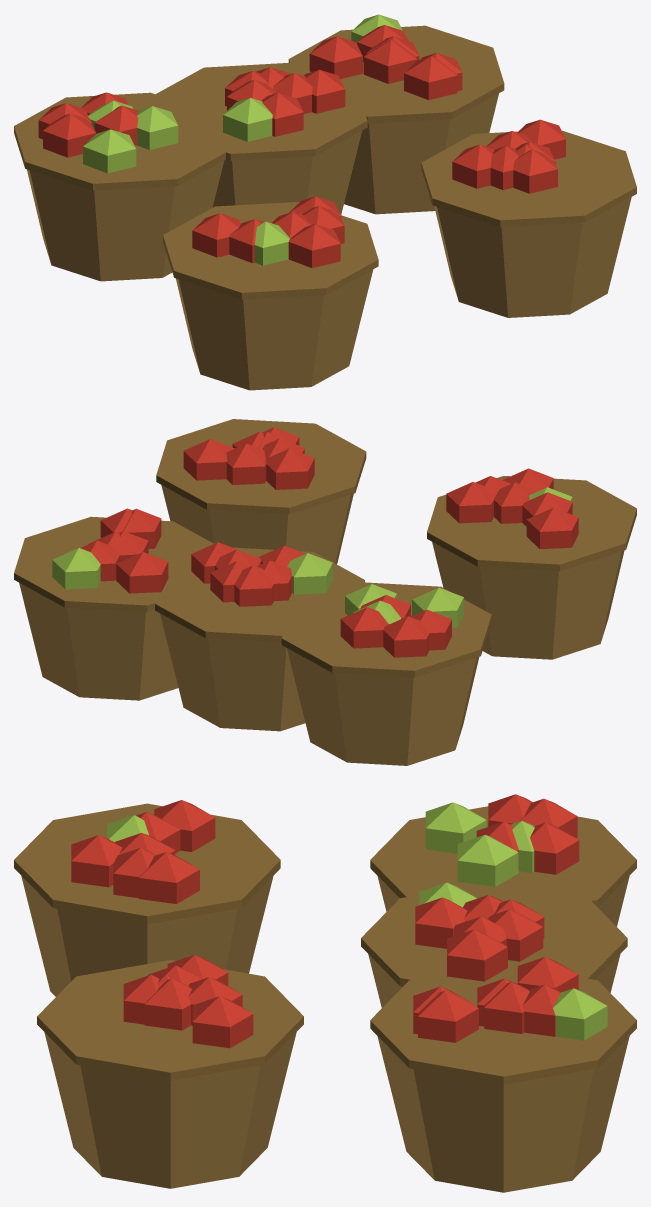
Rendered from pile_fruit_2.glb.
The picture shows the model from 3 angles, top to bottom: view 1: azimuth 30°, elevation 25°; view 2: azimuth 150°, elevation 25°; view 3: azimuth 270°, elevation 25°; orthographic projection. The views are drawn at different scales.
Parts seen in each view (by area): view 1: pile_fruit_2; view 2: pile_fruit_2; view 3: pile_fruit_2.
Boxes of the visible parts, bbox=[...] form: pile_fruit_2: bbox=[14, 14, 636, 390]; pile_fruit_2: bbox=[14, 419, 636, 765]; pile_fruit_2: bbox=[14, 794, 636, 1192].
Bounding box in the file's own units: 1.4 × 0.406 × 1.35.
